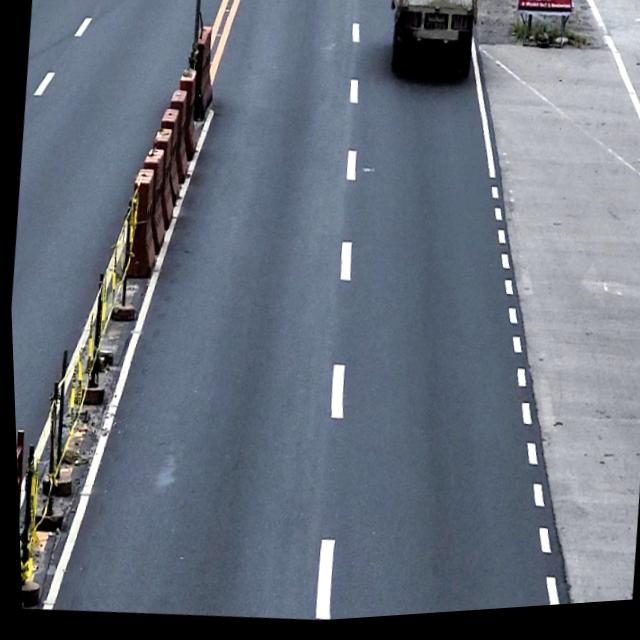Truck: (382, 0, 482, 90)
